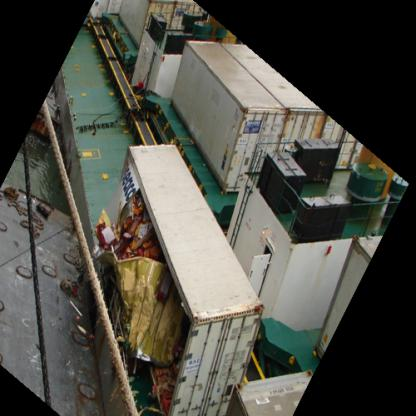Damage: (94, 156, 194, 406)
